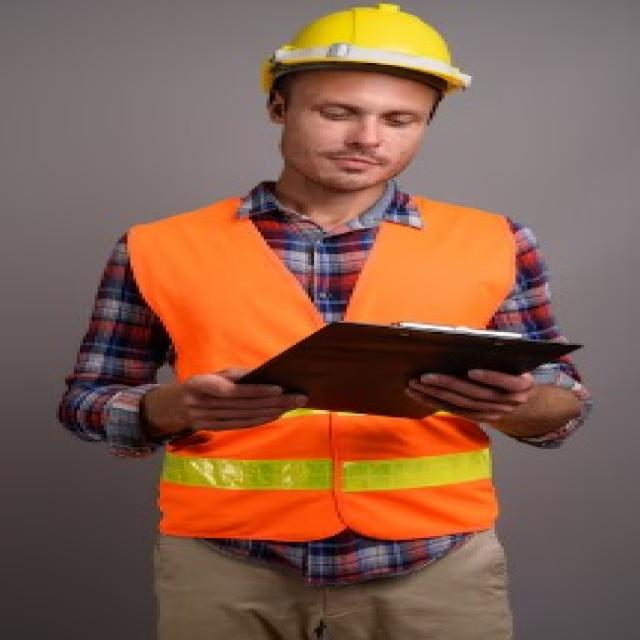not-gloved: (137, 364, 305, 441), (390, 370, 558, 425)
